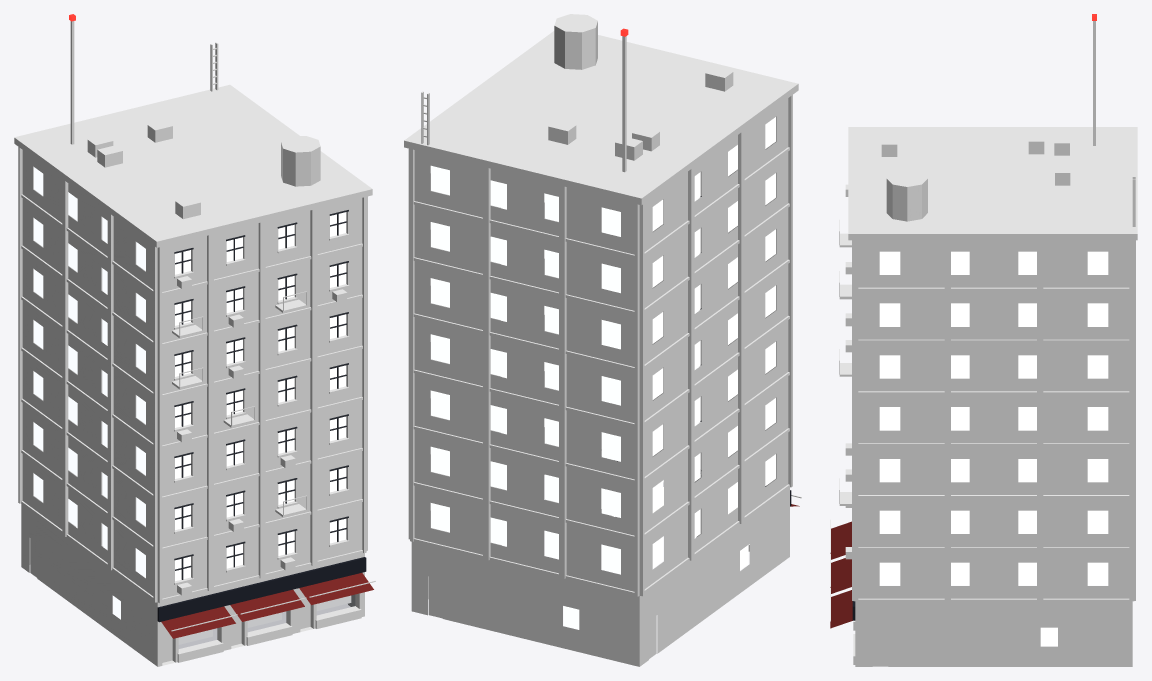
The model's file is bld_neon_01_a.glb.
3 views of the same model, side by side, from view 1: azimuth 30°, elevation 25°; view 2: azimuth 150°, elevation 25°; view 3: azimuth 270°, elevation 25° (orthographic). The views are drawn at different scales.
Visible parts, largest first — view 1: LOD0; view 2: LOD0; view 3: LOD0.
Boxes of the visible parts, x1,y1,x2,y2 form: LOD0: (14, 14, 375, 666); LOD0: (404, 14, 801, 666); LOD0: (830, 14, 1137, 666).
Size of what is drawn, in the model's own units: 14.6 by 36 by 17.75.
